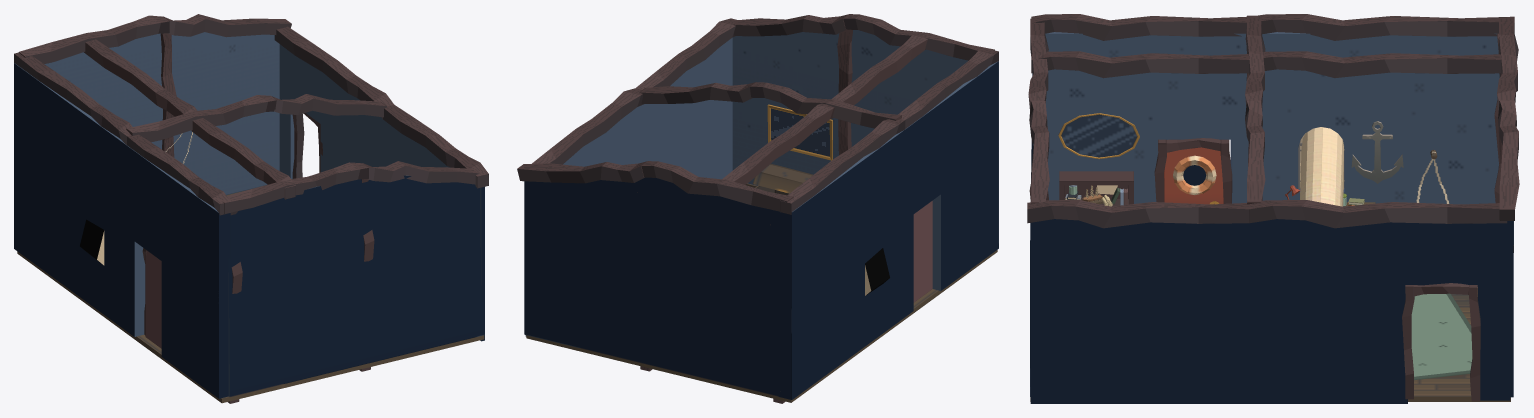
Rendered from shack.fbx.
3 renders of one model, left to right at view 1: azimuth 30°, elevation 25°; view 2: azimuth 150°, elevation 25°; view 3: azimuth 270°, elevation 25°, orthographic. The views are drawn at different scales.
Parts seen in each view (by area): view 1: pCube45, incomplete_shack:pCube76, incomplete_shack:pCube45, pCube104, pCube118, pCube119, pCube123, pCube124, pCube114, pCube120, pCube128, pCube129 (+9 smaller); view 2: incomplete_shack:pCube45, incomplete_shack:pCube76, pCube45, pCube104, pCube118, pCube114, pCube119, pCube128, pCube110, pCube123, pCube124, pCube120 (+10 smaller); view 3: pCube104, incomplete_shack:pCube76, pCube119, polySurface7, pCube114, pCube128, pCube120, rug_1, pCube115, pCube129, ray_2, pCylinder20 (+13 smaller).
Part boxes in pixels (box(x1,y1,x2,y2)): pCube45: box(228, 175, 484, 396); incomplete_shack:pCube76: box(14, 63, 230, 398); incomplete_shack:pCube45: box(44, 32, 279, 195); pCube104: box(279, 44, 484, 341); pCube118: box(18, 15, 169, 63); pCube119: box(274, 26, 393, 118); pCube123: box(126, 95, 276, 142); pCube124: box(223, 162, 368, 213); pCube114: box(14, 52, 132, 144); pCube120: box(383, 104, 488, 188); pCube128: box(84, 39, 196, 131); pCube129: box(192, 118, 295, 199); incomplete_shack:pCube45: box(524, 177, 780, 396); incomplete_shack:pCube76: box(778, 61, 998, 399); pCube45: box(732, 30, 968, 187); pCube104: box(525, 37, 732, 336); pCube118: box(641, 161, 793, 211); pCube114: box(780, 119, 905, 214); pCube119: box(532, 88, 643, 164); pCube128: box(722, 103, 834, 184); pCube110: box(517, 161, 646, 183); pCube123: box(750, 82, 901, 128); pCube124: box(843, 14, 994, 60); pCube120: box(636, 18, 737, 89); pCube104: box(1030, 219, 1510, 403); incomplete_shack:pCube76: box(1032, 32, 1513, 252); pCube119: box(1249, 200, 1507, 228); polySurface7: box(1154, 138, 1232, 204); pCube114: box(1258, 14, 1514, 40); pCube128: box(1263, 51, 1501, 77); pCube120: box(1027, 200, 1249, 228); rug_1: box(1411, 293, 1472, 380); pCube115: box(1031, 14, 1246, 40); pCube129: box(1031, 51, 1249, 78); ray_2: box(1300, 127, 1343, 206); pCylinder20: box(1058, 113, 1139, 159).
Bounding box in the file's own units: 1841 × 1305 × 2392.
Materials: 17 (17 with a texture image).
